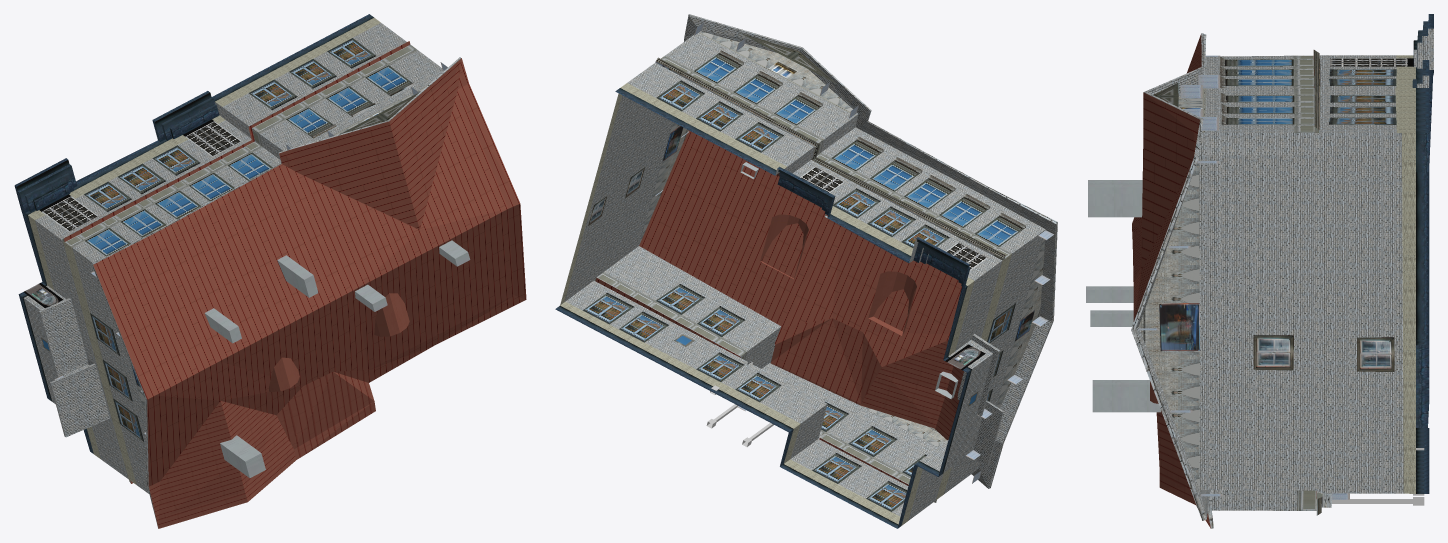
Rendered from Wismari-3.obj.
3 views of the same model, side by side, from view 1: azimuth 30°, elevation 25°; view 2: azimuth 150°, elevation 25°; view 3: azimuth 270°, elevation 25° (orthographic). The views are drawn at different scales.
Parts seen in each view (by area): view 1: W3_Building; view 2: W3_Building; view 3: W3_Building.
Part boxes in pixels (x1,y1,x2,y2): W3_Building: (14, 14, 526, 528); W3_Building: (555, 14, 1057, 528); W3_Building: (1086, 14, 1433, 528).
Bounding box in the file's own units: 25.86 × 22.68 × 12.99.
